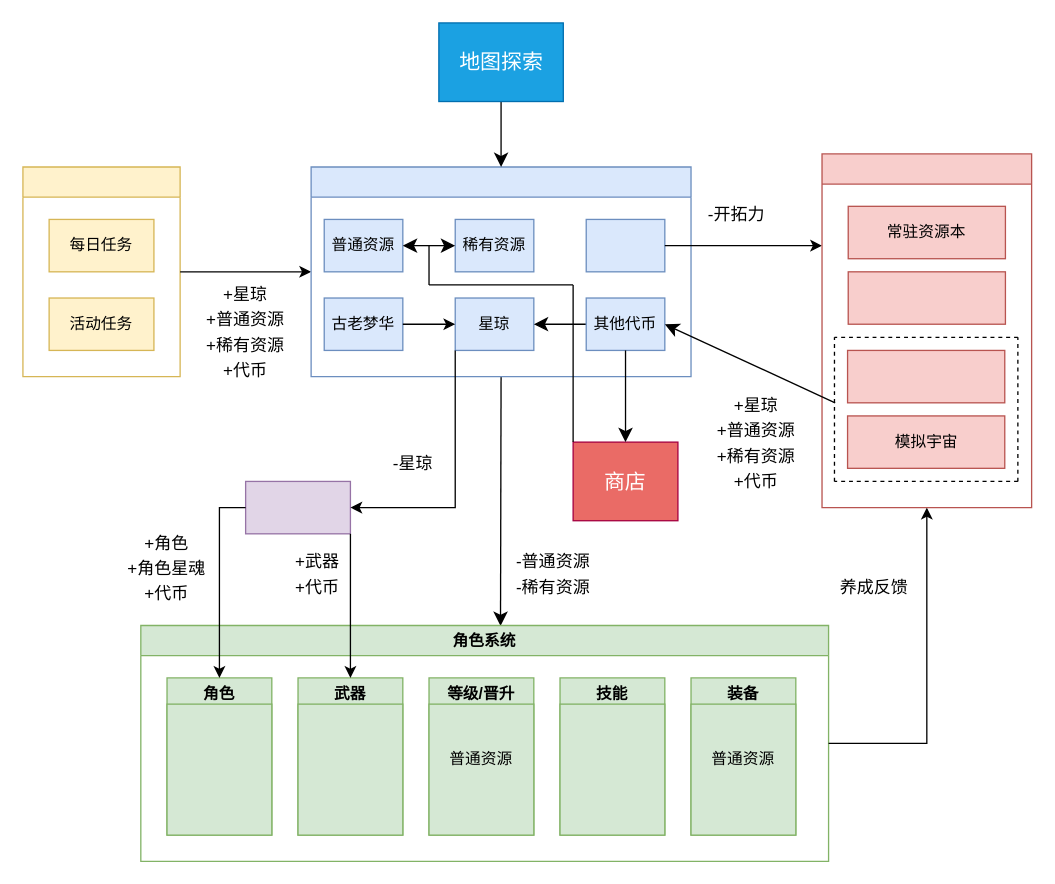
Image size: 1055x884. Some labels were removed from this diagram. The shapes that lost their labels are listed below. From the top down, each one's box as (x1, y1, x2, y2) in pixels, then its label:
(585, 218, 665, 272): 开拓力
(22, 166, 180, 377): 任务系统
(310, 166, 691, 377): 资源系统
(847, 271, 1005, 324): 活动资源本
(821, 153, 1032, 508): 关卡系统
(846, 349, 1005, 403): 忘却之庭
(244, 480, 350, 534): 卡池
(166, 703, 272, 835): 普通资源 限定角色 角色星魂
(297, 703, 403, 835): 普通资源 限定武器 武器叠影
(559, 703, 665, 835): 普通资源 稀有资源
